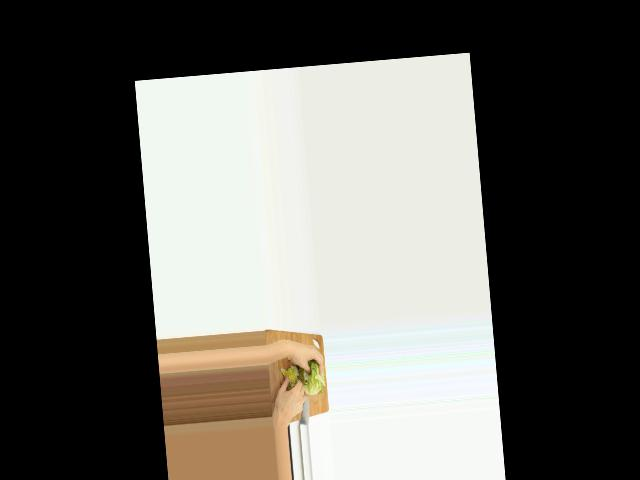lettuce: (299, 361, 325, 396)
